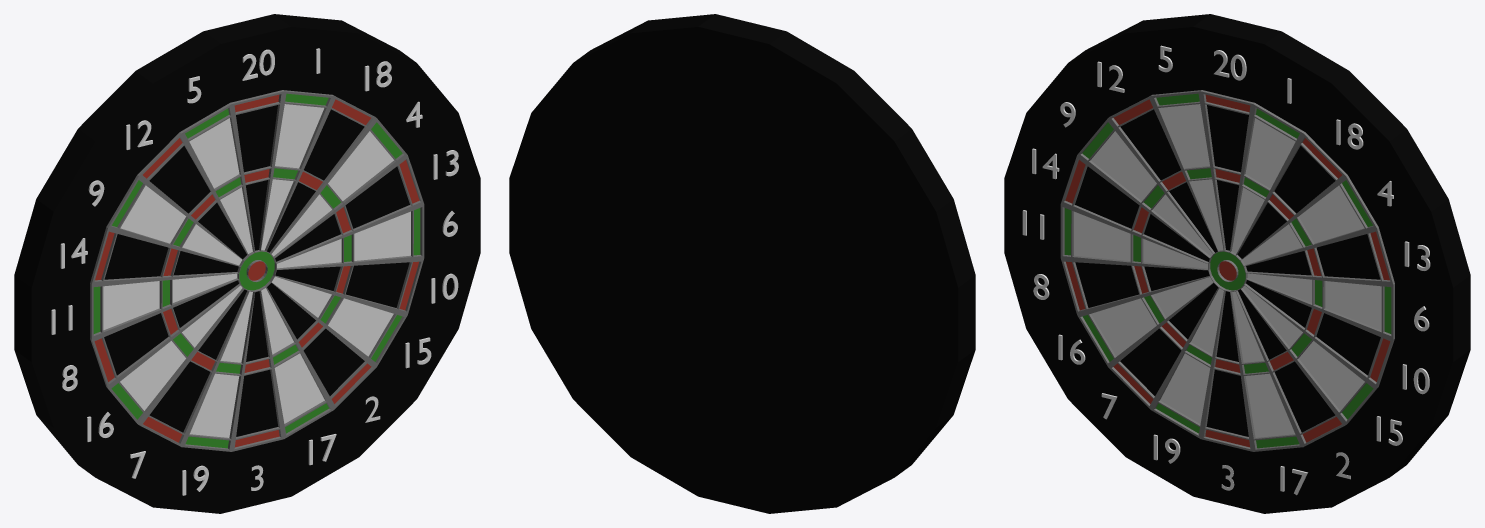
File: Dart board.fbx
3 views of the same model, side by side, from view 1: azimuth 30°, elevation 25°; view 2: azimuth 150°, elevation 25°; view 3: azimuth 330°, elevation 25° (orthographic).
Parts seen in each view (by area): view 1: Cylinder.002; view 2: Cylinder.002; view 3: Cylinder.002.
Boxes of the visible parts, x1,y1,x2,y2 form: Cylinder.002: (14, 14, 480, 513); Cylinder.002: (509, 14, 975, 513); Cylinder.002: (1004, 14, 1470, 513).
Size of the model in its own units: 44.54 by 44.54 by 3.3.
